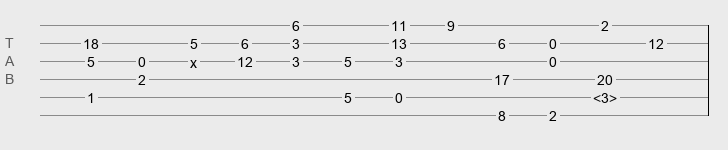0: (138, 54, 146, 64), (395, 90, 403, 100), (549, 54, 557, 64), (549, 36, 557, 46)
1: (87, 90, 95, 100)
11: (391, 18, 407, 28)
12: (237, 54, 253, 64), (648, 36, 664, 46)
13: (391, 36, 407, 46)
17: (494, 72, 510, 82)
18: (83, 36, 99, 46)
2: (138, 72, 146, 82), (549, 108, 557, 118), (601, 18, 609, 28)
20: (597, 72, 613, 82)
3: (292, 36, 300, 46), (292, 54, 300, 64), (395, 54, 403, 64)
5: (87, 54, 95, 64), (190, 36, 198, 46), (344, 54, 352, 64), (344, 90, 352, 100)
6: (241, 36, 249, 46), (292, 18, 300, 28), (498, 36, 506, 46)
8: (498, 108, 506, 118)
9: (447, 18, 455, 28)
harmonic: (593, 90, 617, 100)
x: (190, 55, 197, 63)
